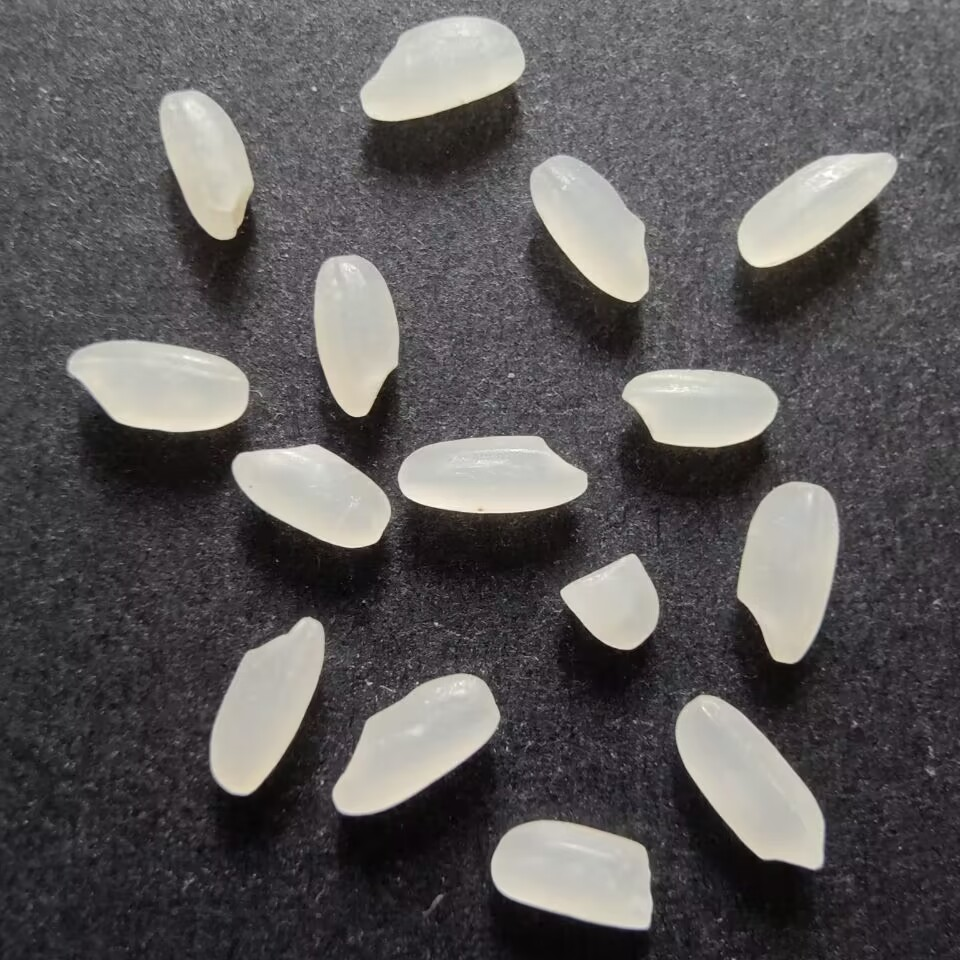broken: (557, 551, 666, 655)
rice: (671, 694, 835, 878), (329, 667, 501, 820), (208, 614, 329, 803), (735, 145, 902, 275), (729, 476, 840, 668), (483, 816, 656, 933), (522, 152, 652, 307), (61, 332, 252, 435), (355, 14, 529, 126), (226, 440, 397, 552), (152, 85, 259, 248), (392, 432, 593, 518), (308, 250, 407, 421), (613, 363, 784, 450)
